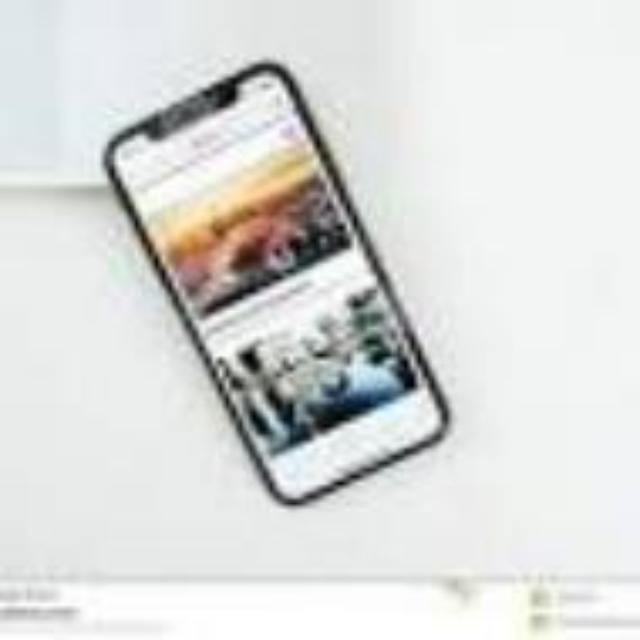phone: (92, 55, 474, 511)
